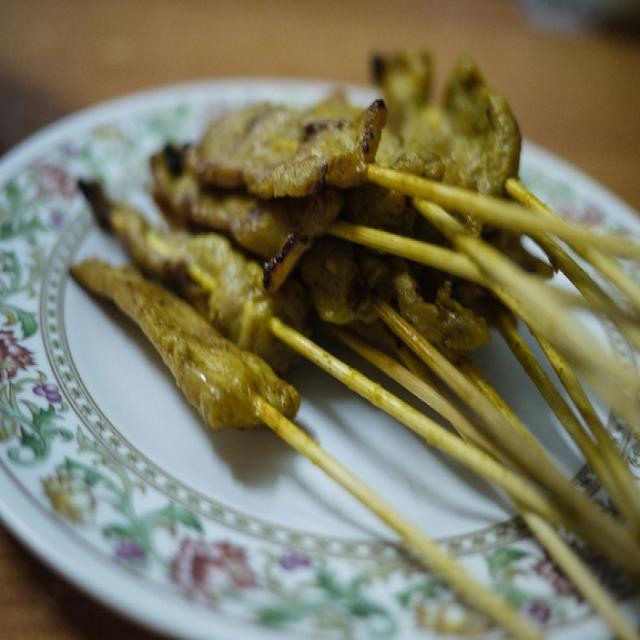牛肉菜式: (53, 37, 606, 531)
